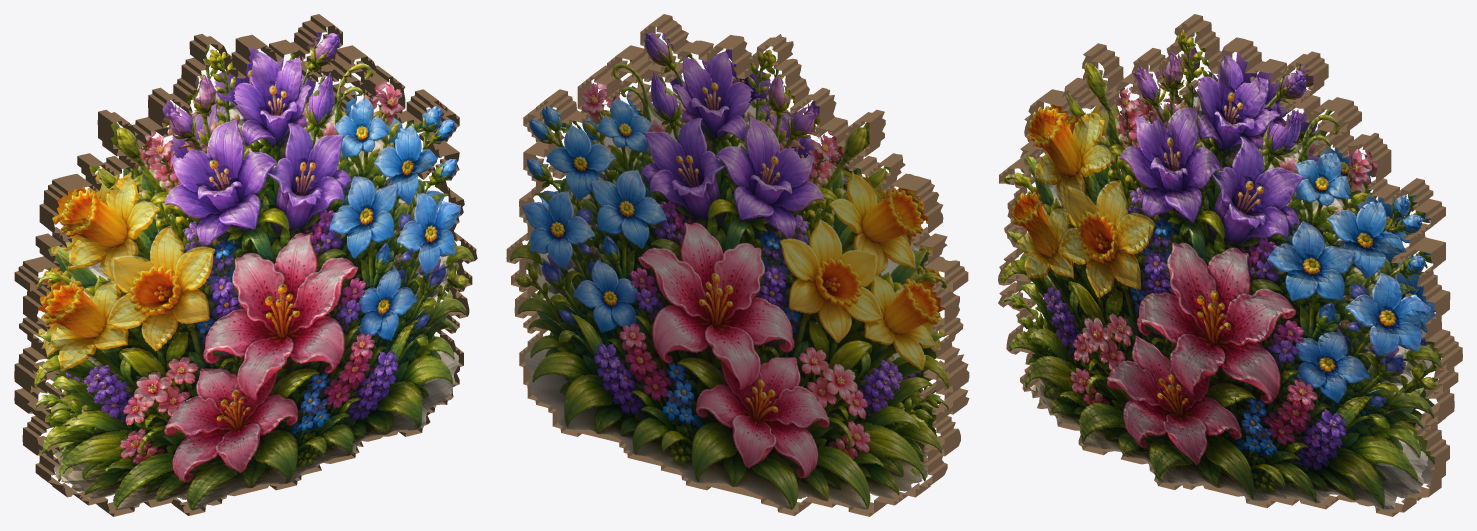
File: flowers.obj
The picture shows the model from 3 angles, left to right: view 1: azimuth 30°, elevation 25°; view 2: azimuth 150°, elevation 25°; view 3: azimuth 330°, elevation 25°; orthographic projection.
Visible parts, largest first — view 1: front_exact, solid_edges, back_exact; view 2: back_exact, solid_edges, front_exact; view 3: front_exact, solid_edges, back_exact.
Boxes of the visible parts, x1,y1,x2,y2 form: front_exact: (34,33,474,510); solid_edges: (14,14,477,516); back_exact: (33,32,456,497); back_exact: (509,32,949,509); solid_edges: (506,14,969,516); front_exact: (527,33,947,496); front_exact: (1001,29,1443,510); solid_edges: (998,14,1462,516); back_exact: (1018,32,1442,498).
Bounding box in the file's own units: 3.95 × 3.93 × 0.5975.
Materials: 2 (1 with a texture image).
